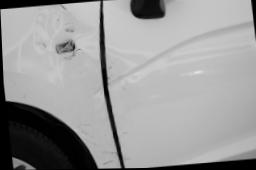Door: (98, 3, 256, 169)
Fender: (3, 2, 106, 102)
